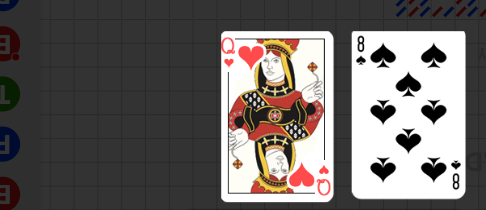8S: (355, 34, 368, 68)
9H: (221, 35, 237, 69)
